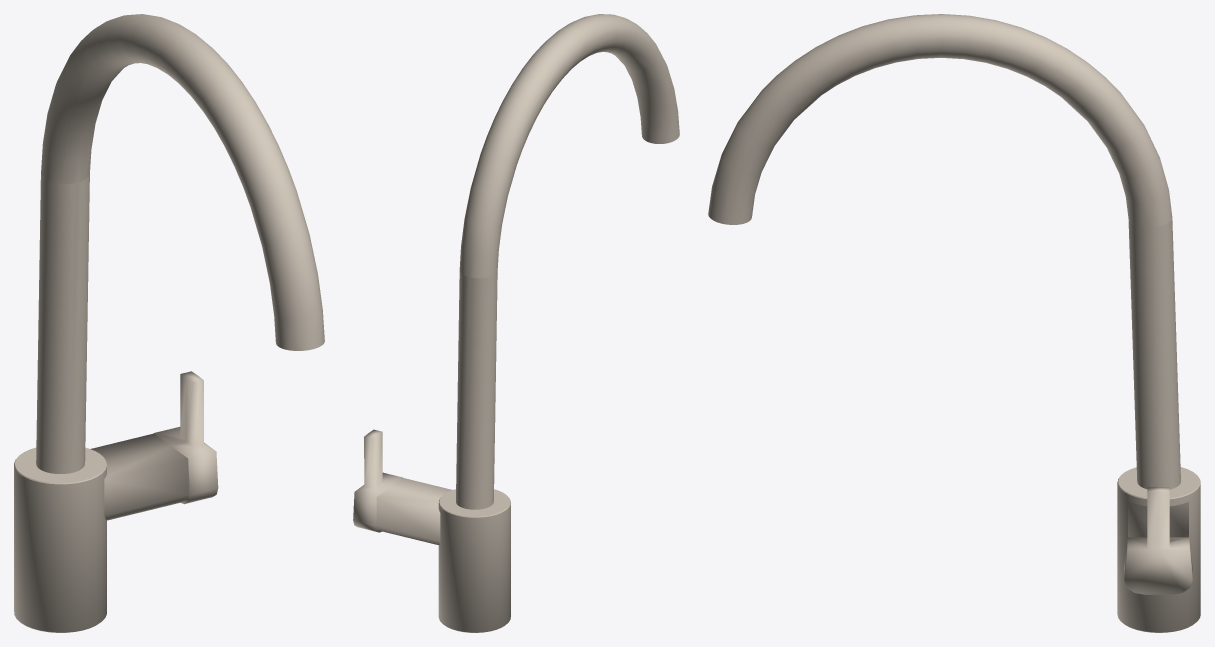
The model's file is faucet_AlignSRS.glb.
The picture shows the model from 3 angles, left to right: view 1: azimuth 30°, elevation 25°; view 2: azimuth 150°, elevation 25°; view 3: azimuth 270°, elevation 25°; orthographic projection. The views are drawn at different scales.
Visible parts, largest first — view 1: Align SRS; view 2: Align SRS; view 3: Align SRS.
Part boxes in pixels (x1,y1,x2,y2): Align SRS: (14,14,324,632); Align SRS: (353,14,679,632); Align SRS: (708,14,1200,632).
Size of the model in its own units: 0.131 by 0.47 by 0.3497.
